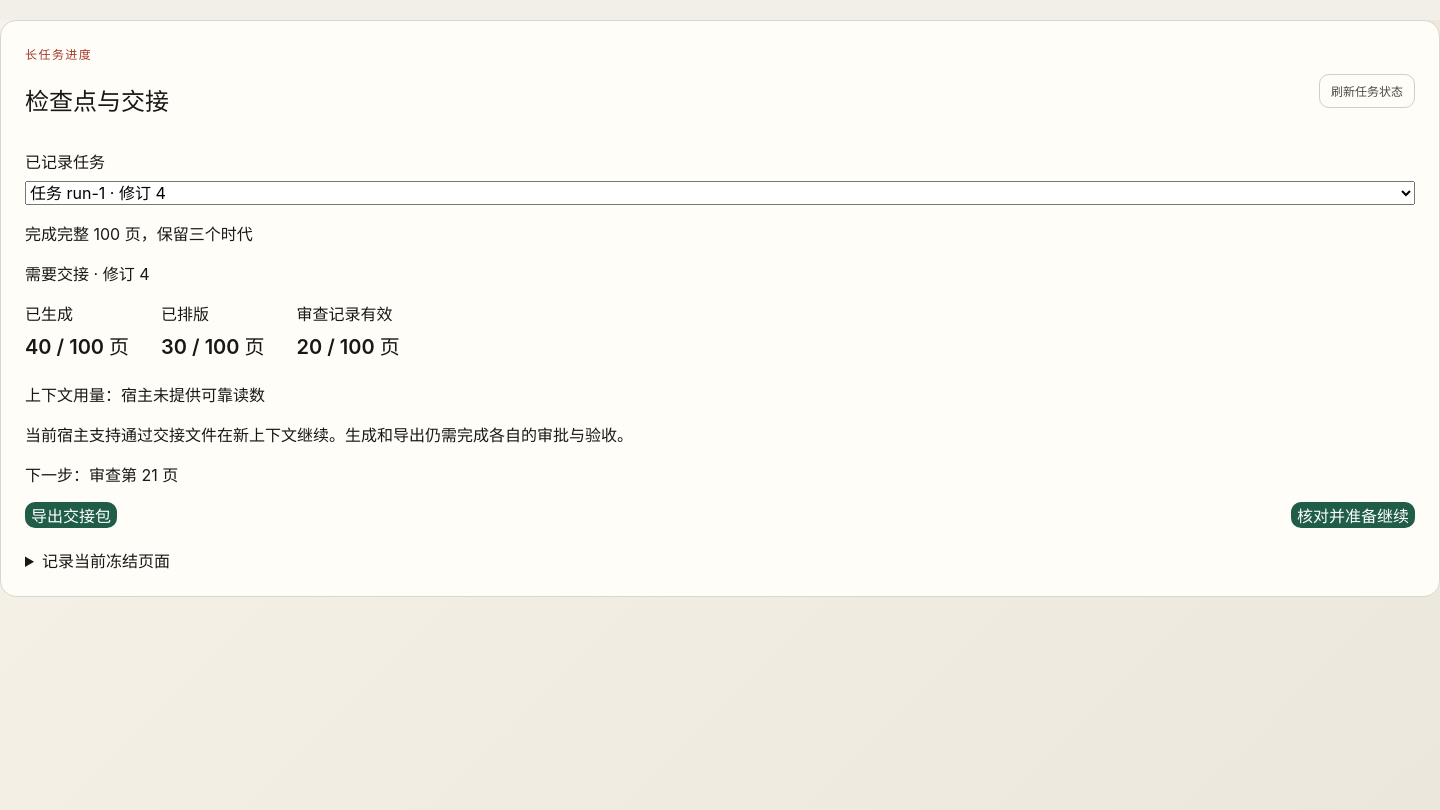
Scenario: stops when reconciliation fails and releases ownership
The image size is (1440, 810).
Click the button "核对并准备继续" at coordinates (1353, 515), box [1291,502,1415,528]
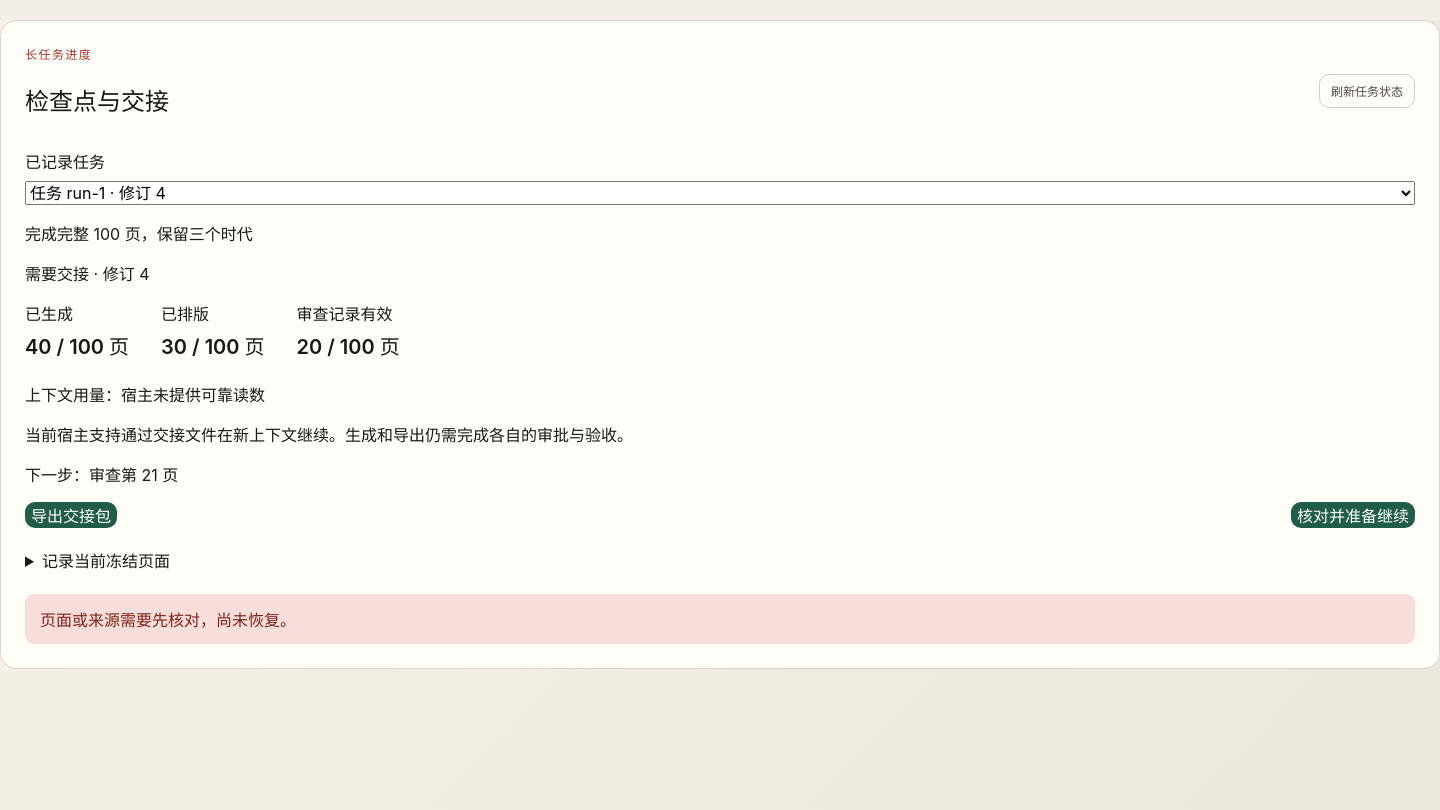
Expected: the message "页面或来源需要先核对，尚未恢复。" is shown, [25,594,1415,644]
